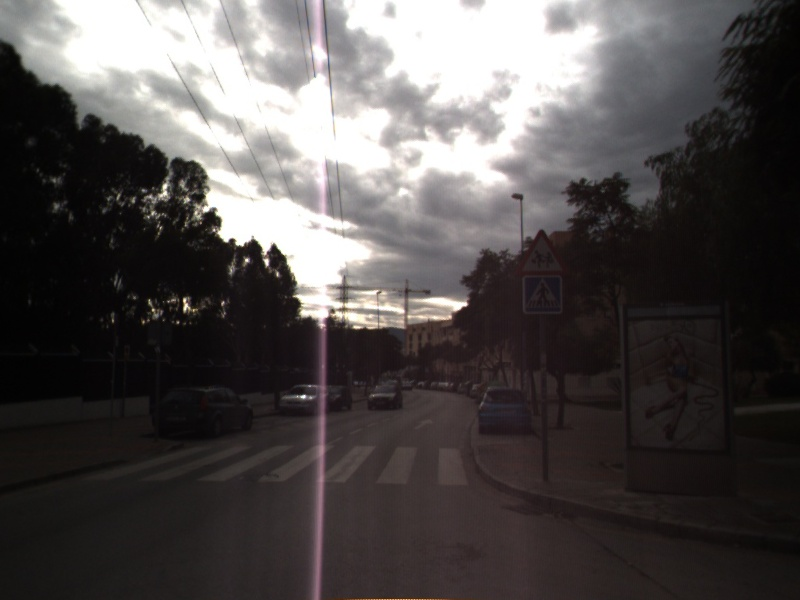STRAIGHT: (411, 416, 436, 432)
